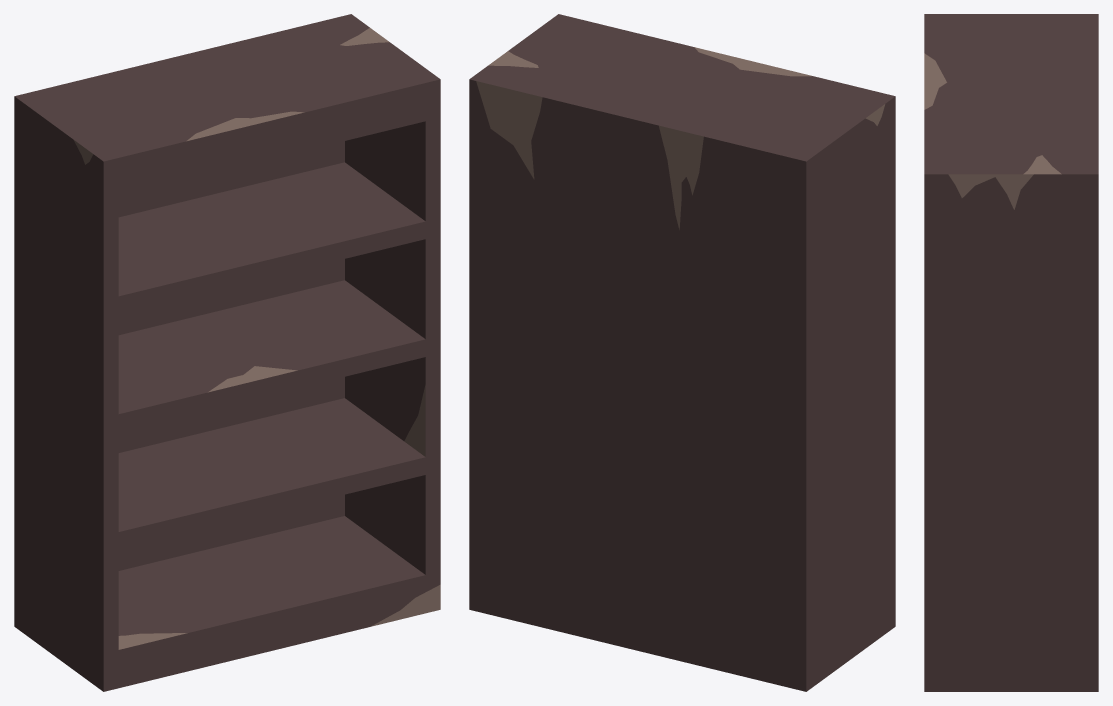
Rendered from bookshelf.fbx.
3 renders of one model, left to right at view 1: azimuth 30°, elevation 25°; view 2: azimuth 150°, elevation 25°; view 3: azimuth 270°, elevation 25°, orthographic. The views are drawn at different scales.
Parts seen in each view (by area): view 1: Cube; view 2: Cube; view 3: Cube.
Part boxes in pixels (left/top/right/bottom): Cube: left=14, top=14, right=440, bottom=691; Cube: left=469, top=14, right=895, bottom=691; Cube: left=924, top=14, right=1098, bottom=691.
Size of the model in its own units: 266 by 400 by 122.
